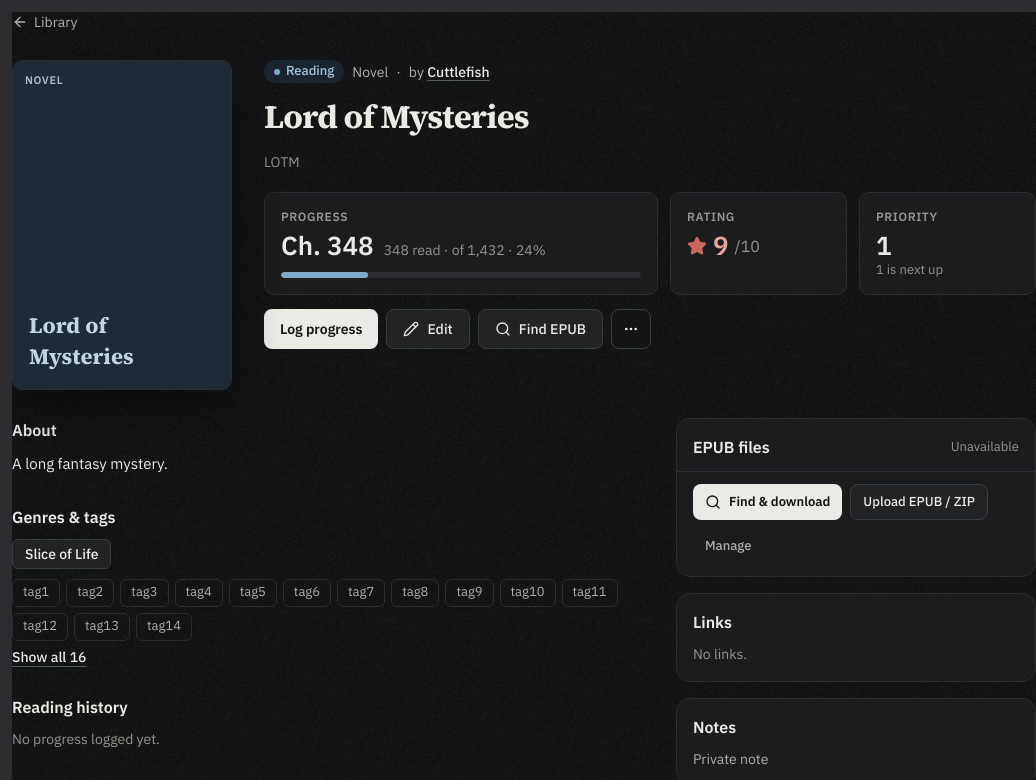
Test: BookDetailsPage › links genres and tags to the library filtered by them, collapsing long tag lists
The image size is (1036, 780).
Check: the link "tag16" is not shown
Click the button "Show all 16" at point(49, 657), box [12,647,86,667]
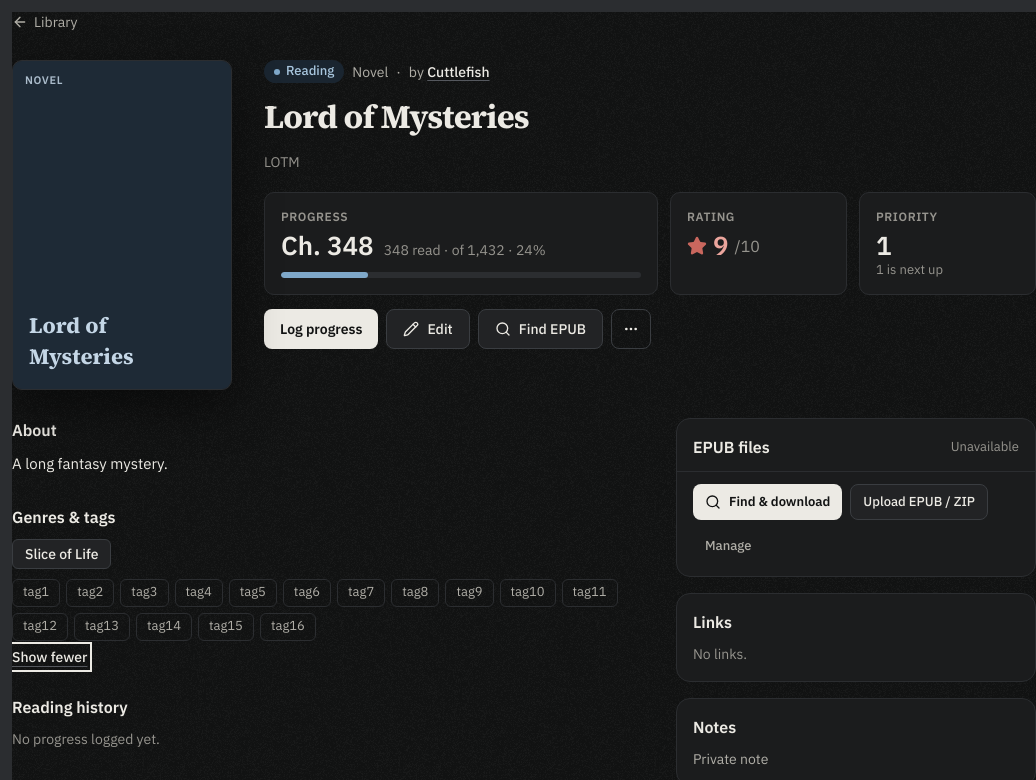
Check: the link "tag16" is shown, box [260,613,316,641]
